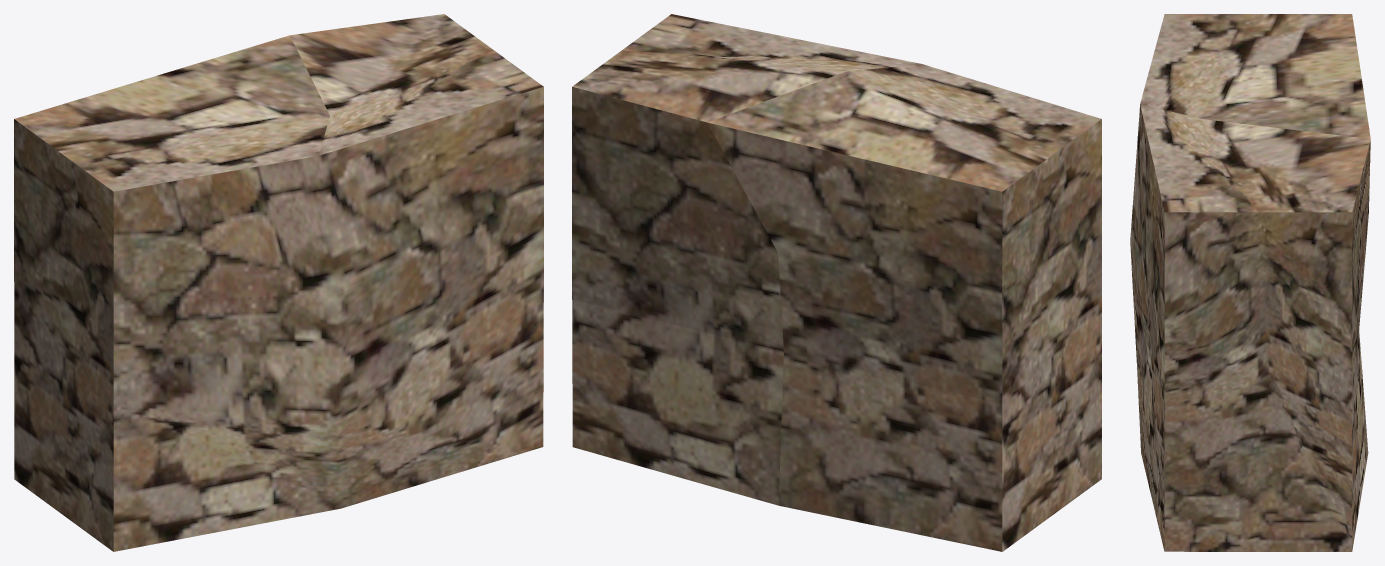
The model's file is drystone_wall_half.fbx.
3 views of the same model, side by side, from view 1: azimuth 30°, elevation 25°; view 2: azimuth 150°, elevation 25°; view 3: azimuth 270°, elevation 25° (orthographic). The views are drawn at different scales.
Visible parts, largest first — view 1: drystone_wall_half; view 2: drystone_wall_half; view 3: drystone_wall_half.
Part boxes in pixels (<box>): drystone_wall_half: <box>14,14,543,551</box>; drystone_wall_half: <box>572,14,1101,551</box>; drystone_wall_half: <box>1130,14,1370,551</box>.
Size of the model in its own units: 100 by 81.51 by 51.3.
Materials: 1 (1 with a texture image).
